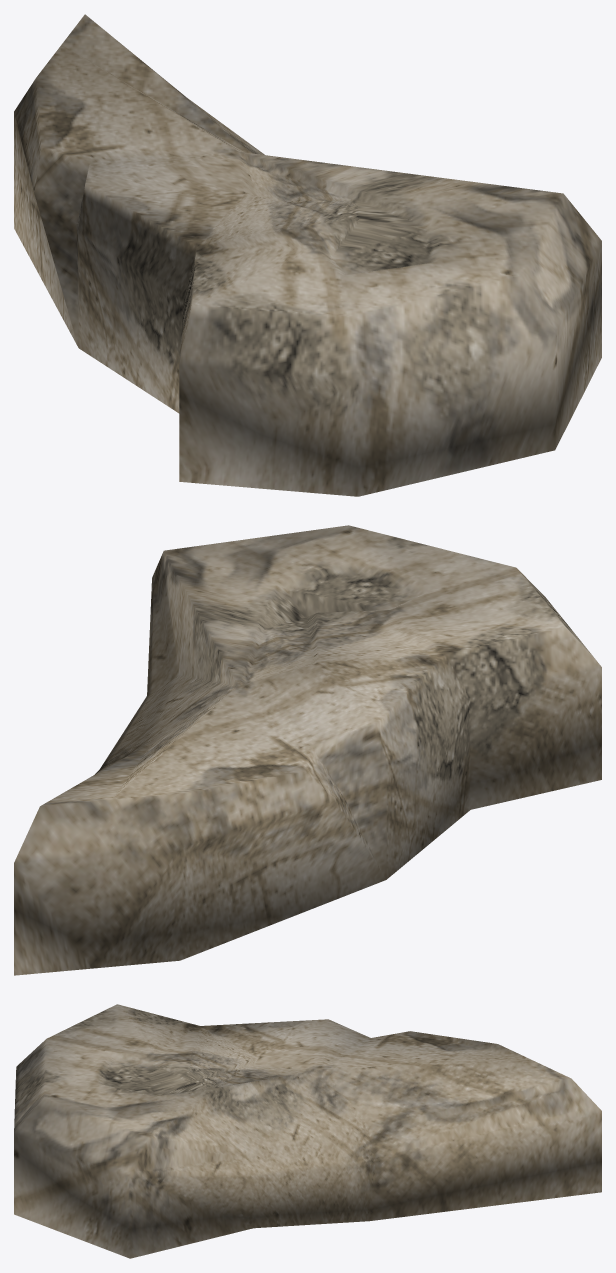
Rendered from Debris_Small_Concrete_03.fbx.
3 renders of one model, top to bottom at view 1: azimuth 30°, elevation 25°; view 2: azimuth 150°, elevation 25°; view 3: azimuth 270°, elevation 25°, orthographic. The views are drawn at different scales.
Parts seen in each view (by area): view 1: Debris_Small_Concrete_03; view 2: Debris_Small_Concrete_03; view 3: Debris_Small_Concrete_03.
Part boxes in pixels (<box>): Debris_Small_Concrete_03: <box>14,14,601,496</box>; Debris_Small_Concrete_03: <box>14,525,601,975</box>; Debris_Small_Concrete_03: <box>14,1004,601,1258</box>.
Size of the model in its own units: 0.1491 by 0.0515 by 0.2451.
